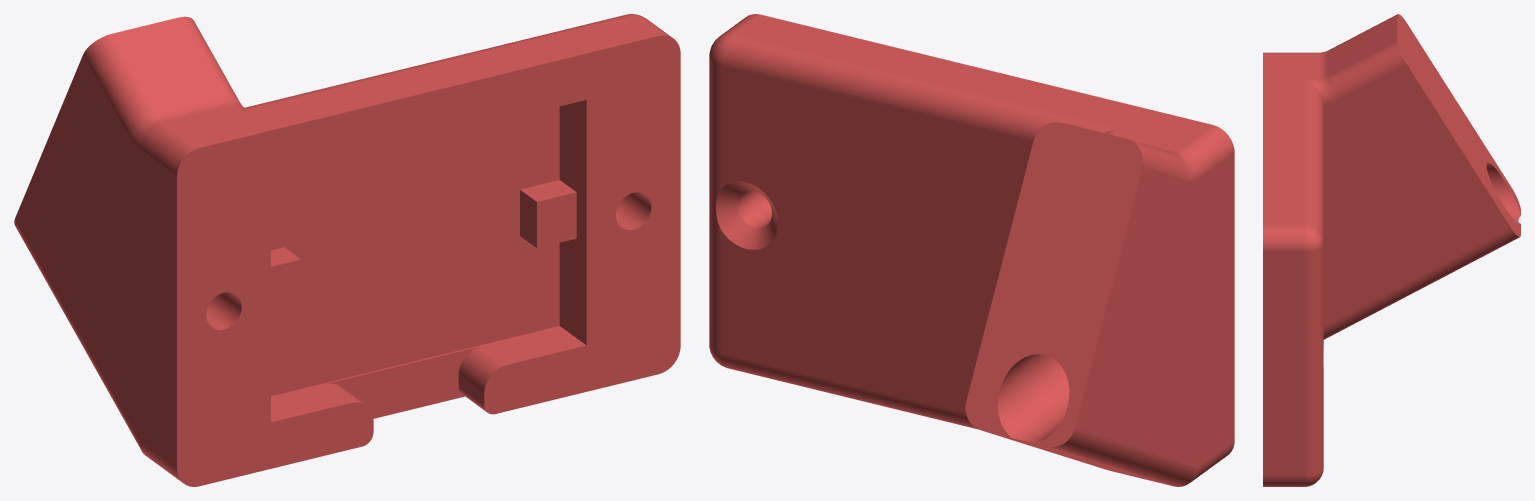
The model's file is Top57mmTrackball30DegTentStand v4 - Back.fbx.
3 renders of one model, left to right at view 1: azimuth 30°, elevation 25°; view 2: azimuth 150°, elevation 25°; view 3: azimuth 270°, elevation 25°, orthographic. The views are drawn at different scales.
Parts seen in each view (by area): view 1: Top57mmTrackball30DegTentStand v4 - Back; view 2: Top57mmTrackball30DegTentStand v4 - Back; view 3: Top57mmTrackball30DegTentStand v4 - Back.
Part boxes in pixels (x1,y1,x2,y2): Top57mmTrackball30DegTentStand v4 - Back: [14, 14, 680, 486]; Top57mmTrackball30DegTentStand v4 - Back: [709, 14, 1234, 486]; Top57mmTrackball30DegTentStand v4 - Back: [1263, 14, 1520, 486].
Bounding box in the file's own units: 45.5 × 33.53 × 26.34.
